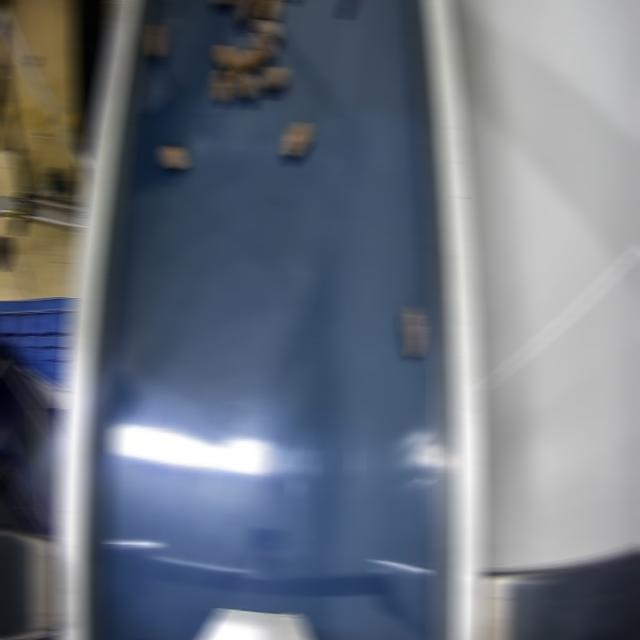Baby Potato: (403, 306, 424, 358), (284, 121, 311, 157), (231, 67, 256, 99), (237, 49, 264, 72), (160, 145, 185, 169), (146, 24, 163, 58), (261, 66, 286, 89), (252, 32, 275, 57), (217, 45, 238, 72), (254, 19, 279, 41), (213, 69, 228, 103), (259, 0, 278, 21), (238, 0, 255, 23), (210, 0, 235, 6)
